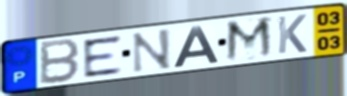A: (171, 24, 221, 69)
B: (38, 37, 82, 86)
E: (80, 34, 125, 80)
K: (276, 13, 309, 56)
M: (224, 15, 276, 65)
N: (131, 27, 174, 75)
